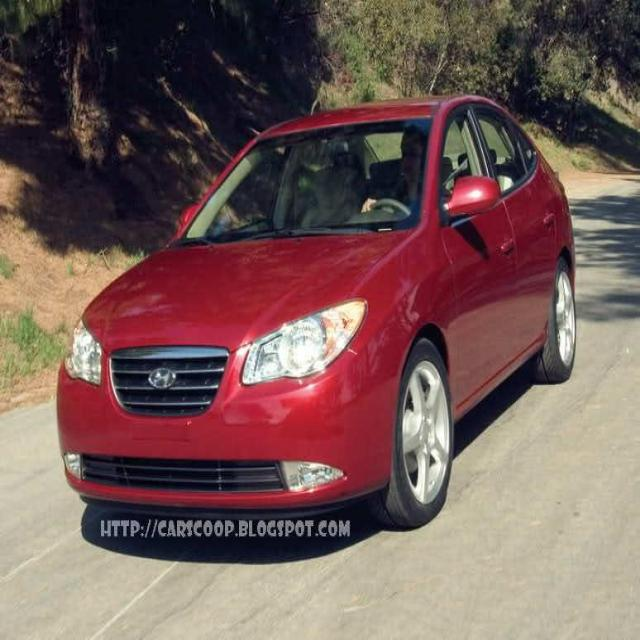Car: (47, 80, 584, 557)
